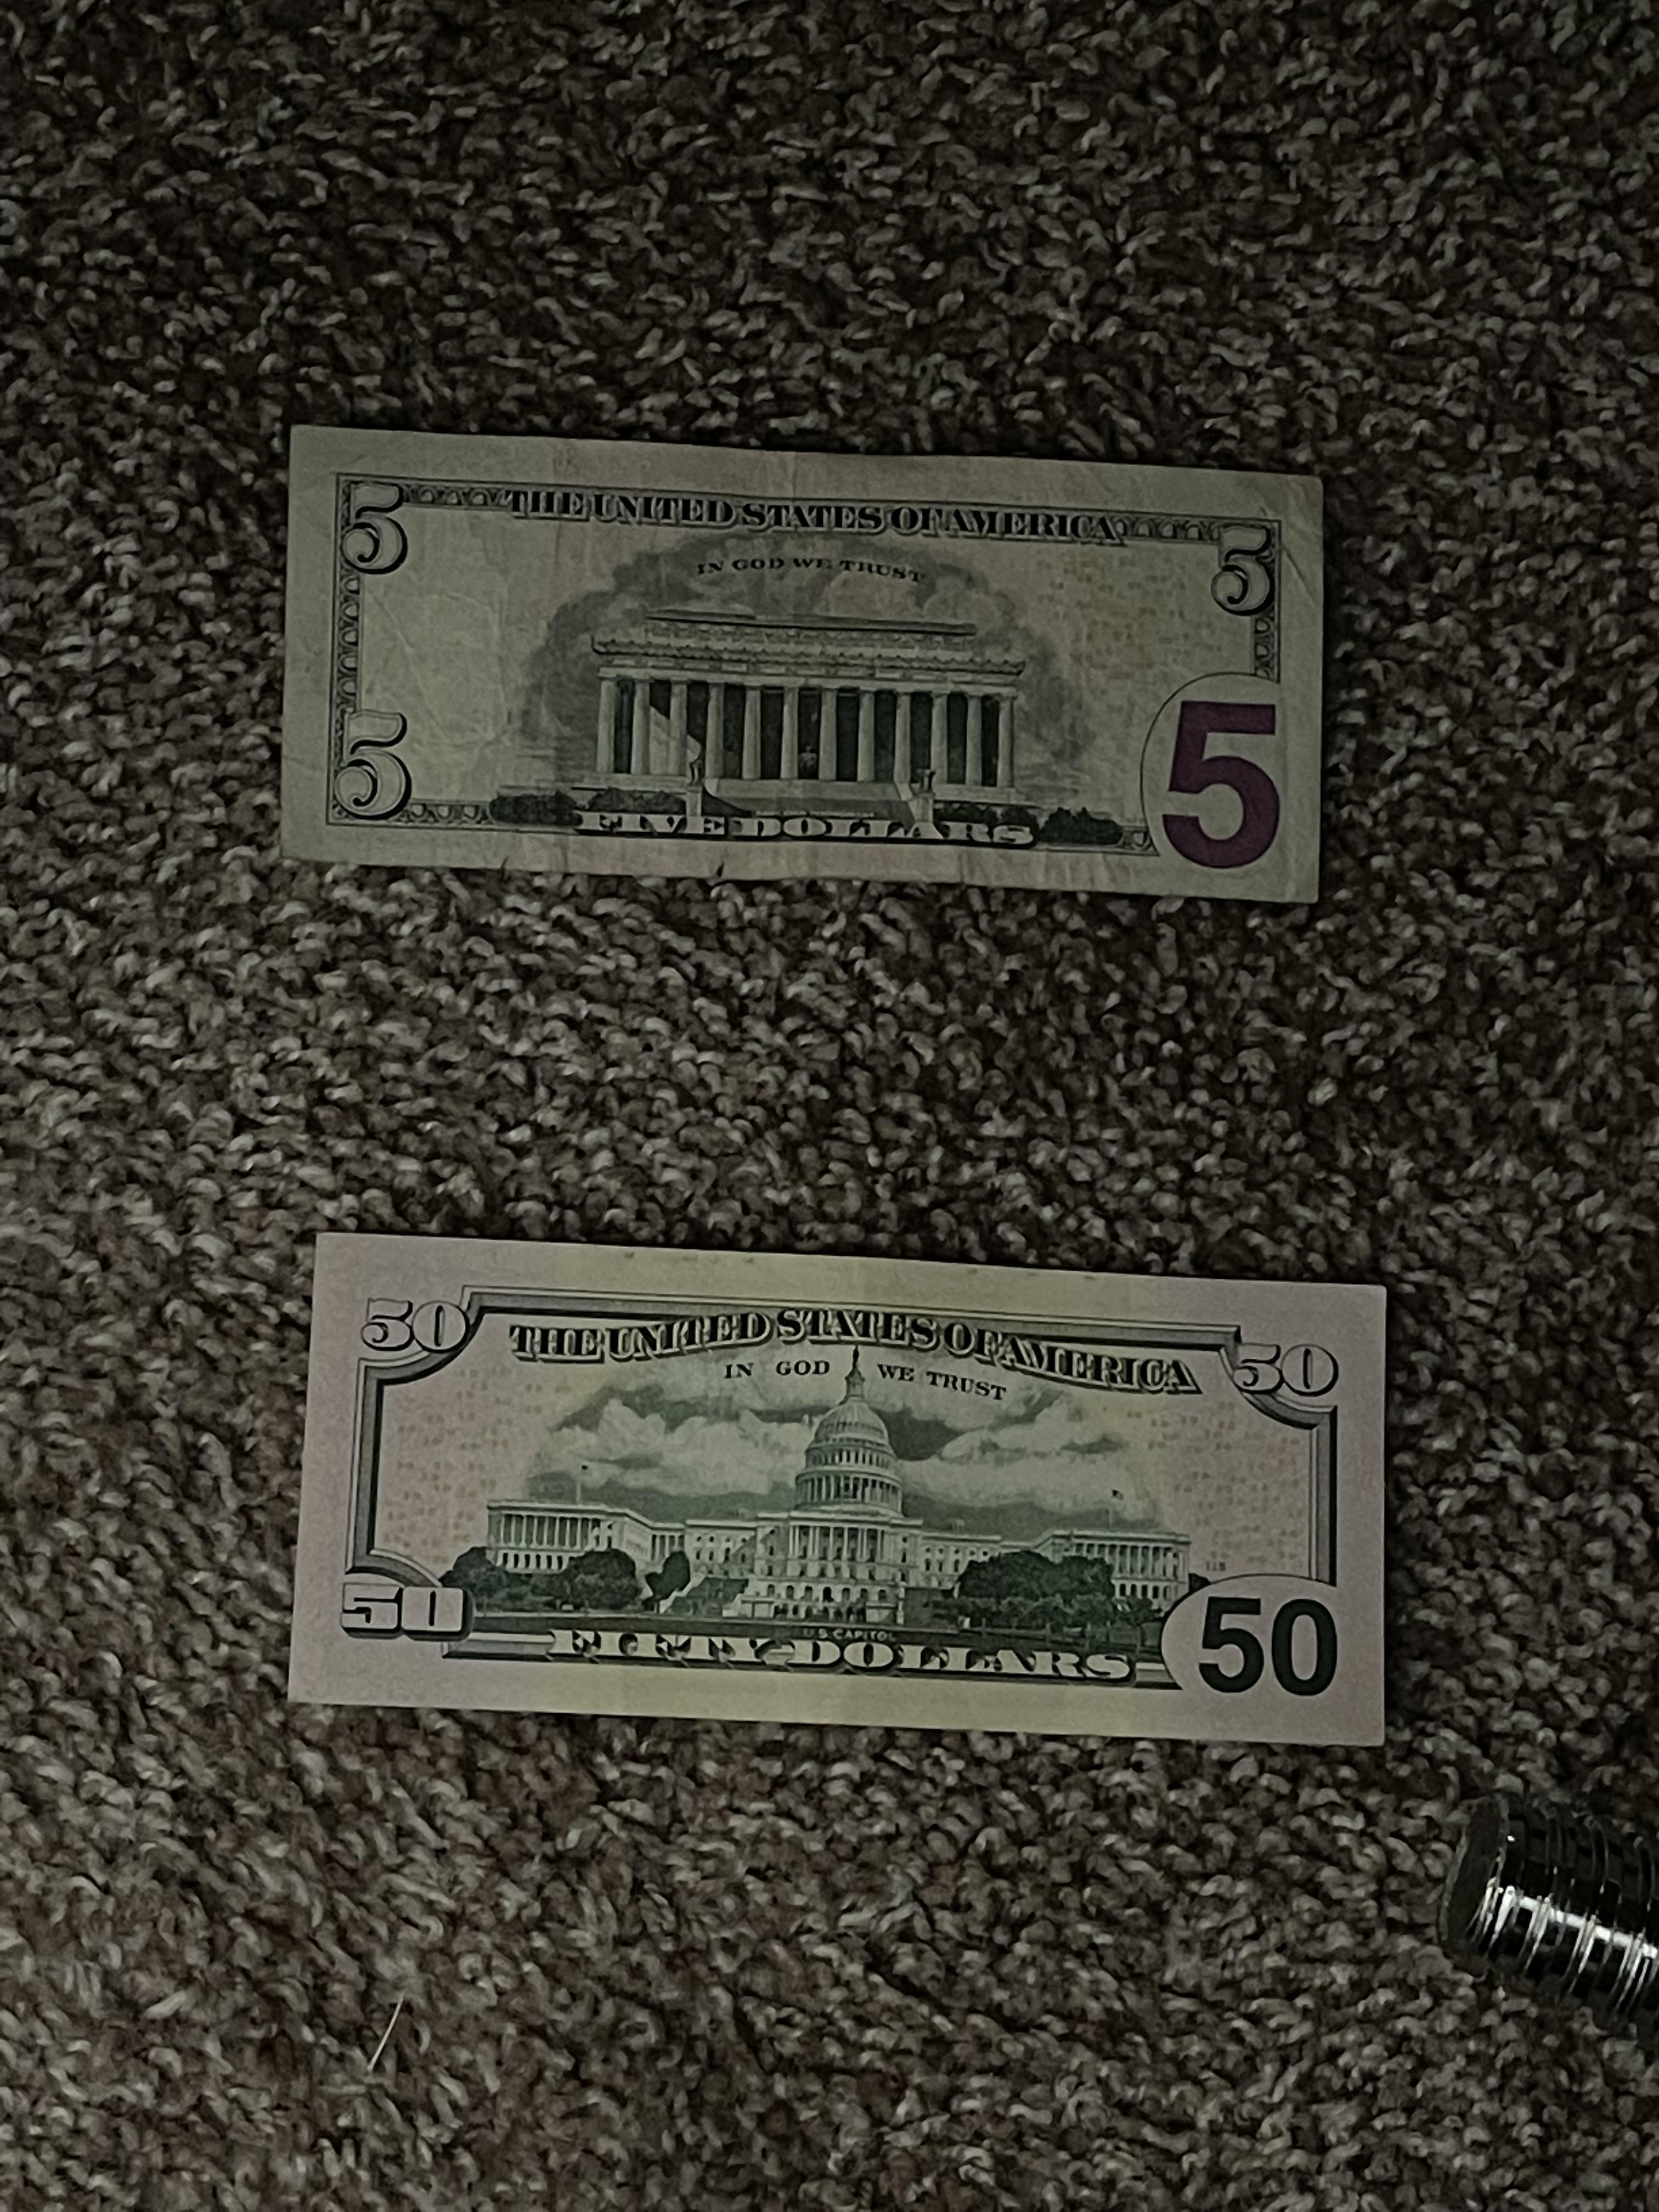FiftyBill: (282, 1230, 1387, 1747)
FiveBill: (277, 421, 1324, 907)
